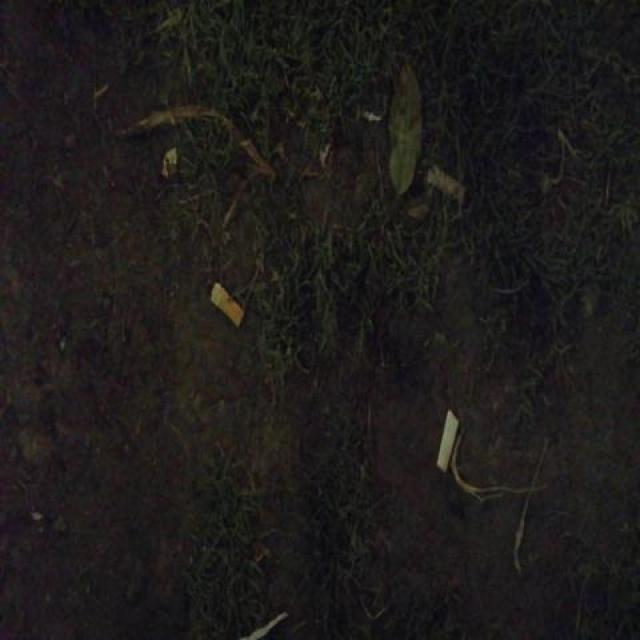non-organic waste: (205, 274, 251, 335), (422, 158, 471, 214), (432, 406, 460, 475)
